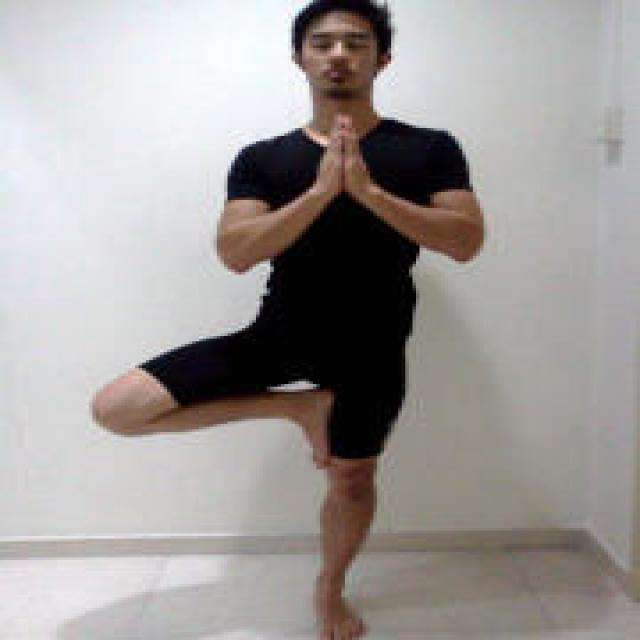yoga-pose tree: (96, 2, 505, 640)
